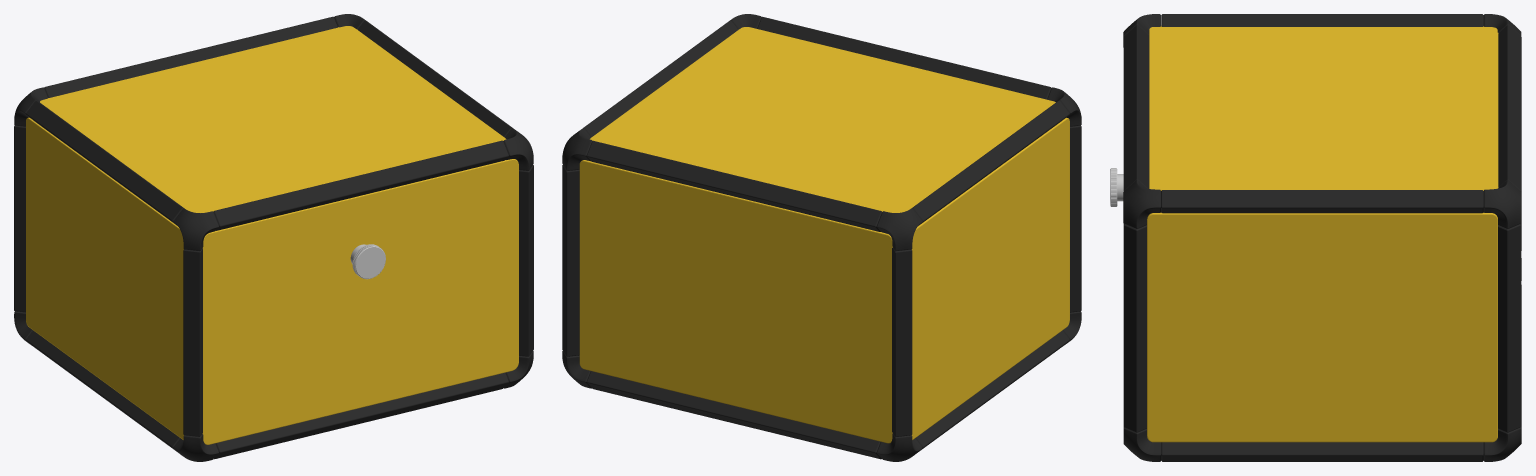
3 renders of one model, left to right at view 1: azimuth 30°, elevation 25°; view 2: azimuth 150°, elevation 25°; view 3: azimuth 270°, elevation 25°, orthographic. The views are drawn at different scales.
Parts seen in each view (by area): view 1: 374x329x229; view 2: 374x329x229; view 3: 374x329x229.
Boxes of the visible parts, left/top/right/bottom form: 374x329x229: left=14, top=14, right=533, bottom=461; 374x329x229: left=562, top=14, right=1081, bottom=461; 374x329x229: left=1110, top=14, right=1521, bottom=461.
Size of the model in its own units: 0.4517 by 0.3066 by 0.4196.
